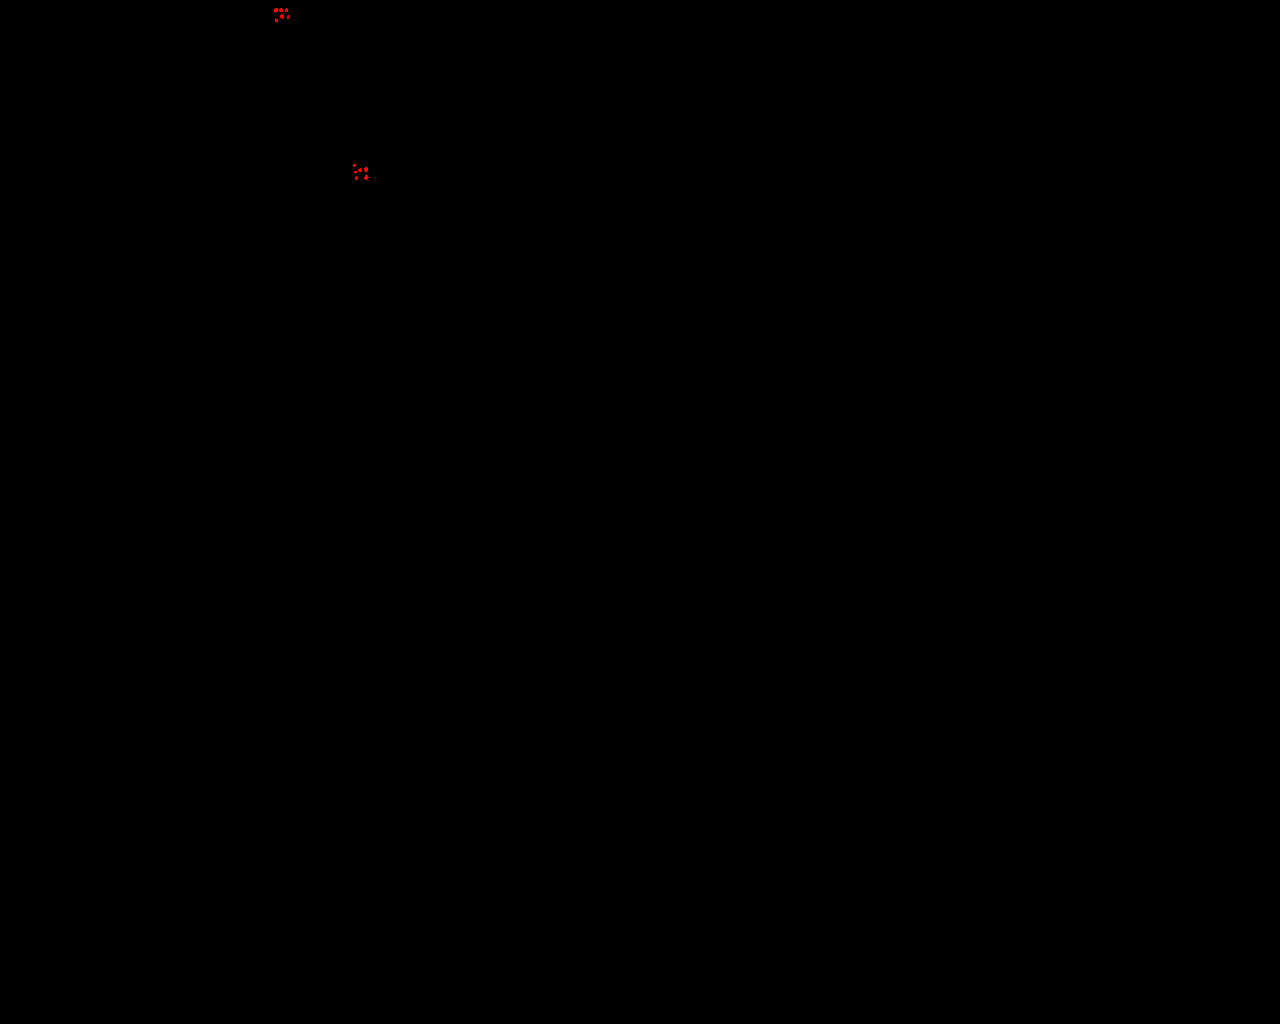Target: (364, 174, 369, 180), (280, 14, 284, 19), (364, 167, 368, 172), (274, 8, 278, 13), (279, 8, 283, 11), (275, 18, 278, 22), (358, 168, 362, 172), (355, 176, 358, 180), (285, 8, 288, 11), (353, 164, 356, 167), (354, 171, 357, 174), (287, 15, 289, 19)
